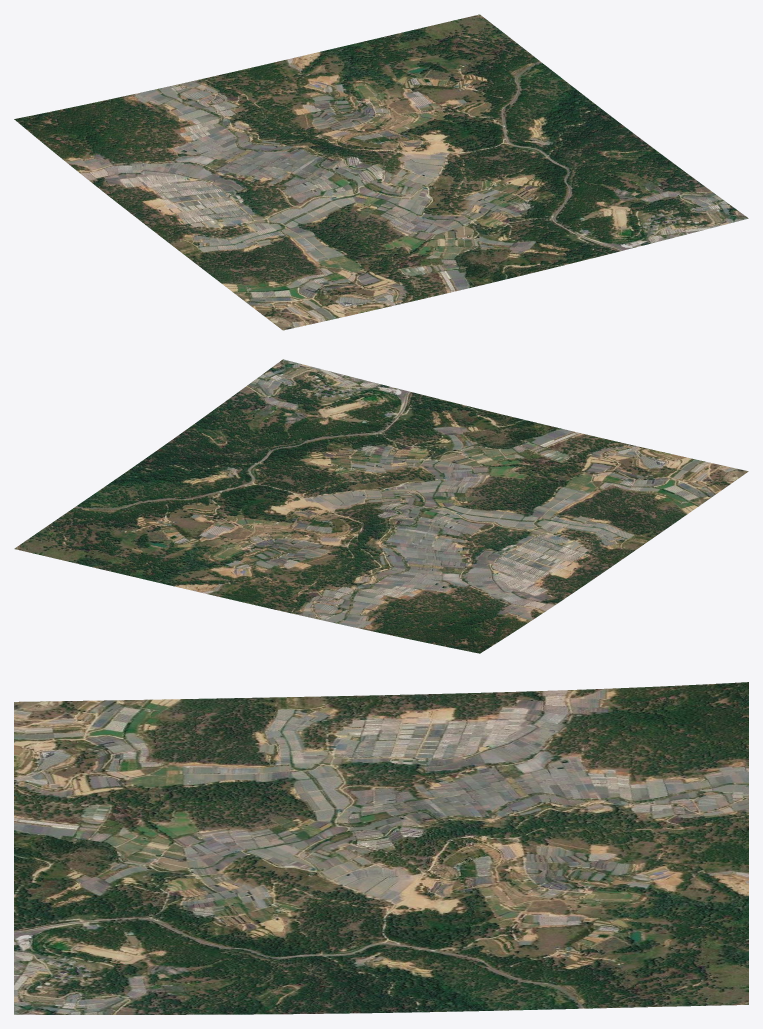
Rendered from terrain_real_T_E02_N04.glb.
3 views of the same model, one above another, from view 1: azimuth 30°, elevation 25°; view 2: azimuth 150°, elevation 25°; view 3: azimuth 270°, elevation 25° (orthographic). The views are drawn at different scales.
Parts seen in each view (by area): view 1: Terrain_Real_DEM_T_E02_N04; view 2: Terrain_Real_DEM_T_E02_N04; view 3: Terrain_Real_DEM_T_E02_N04.
Part boxes in pixels (x1,y1,x2,y2): Terrain_Real_DEM_T_E02_N04: [14, 14, 748, 330]; Terrain_Real_DEM_T_E02_N04: [14, 359, 748, 653]; Terrain_Real_DEM_T_E02_N04: [14, 682, 748, 1014].
Size of the model in its own units: 2000 by 73.37 by 2000.
1 material, 1 textured.
